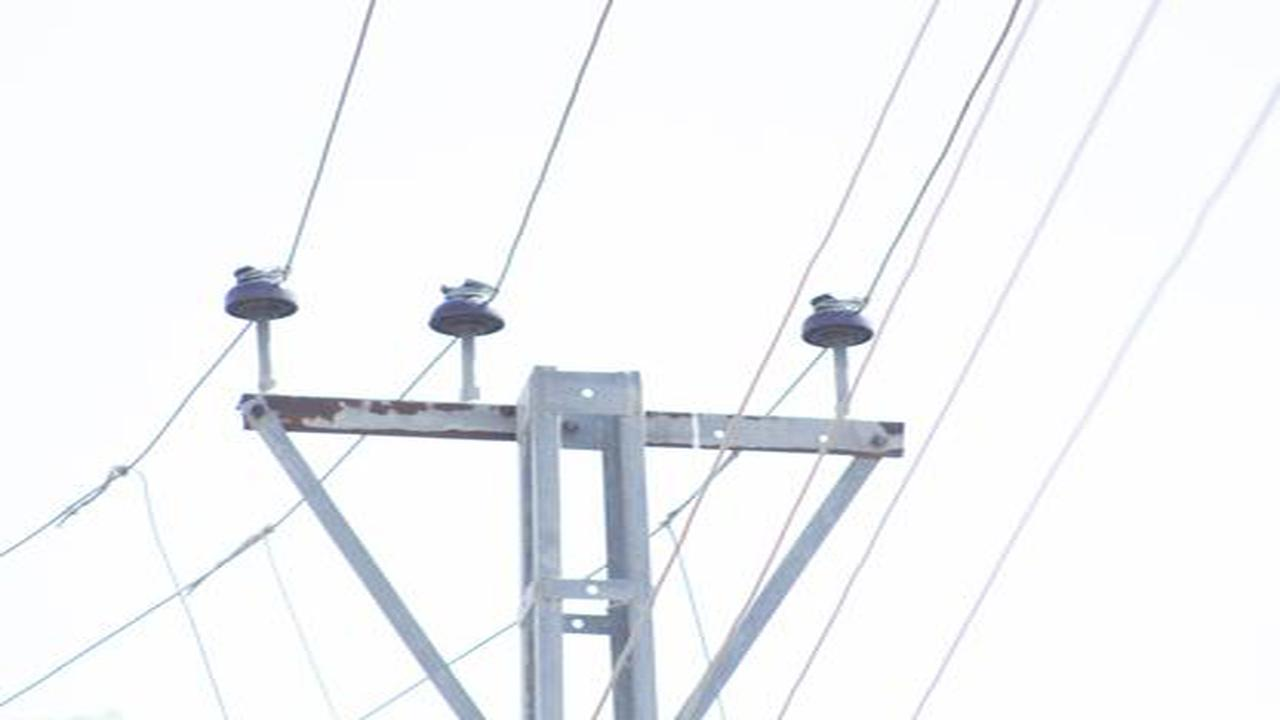insulator_pin: (425, 276, 514, 346), (791, 290, 880, 360), (220, 260, 303, 329)
